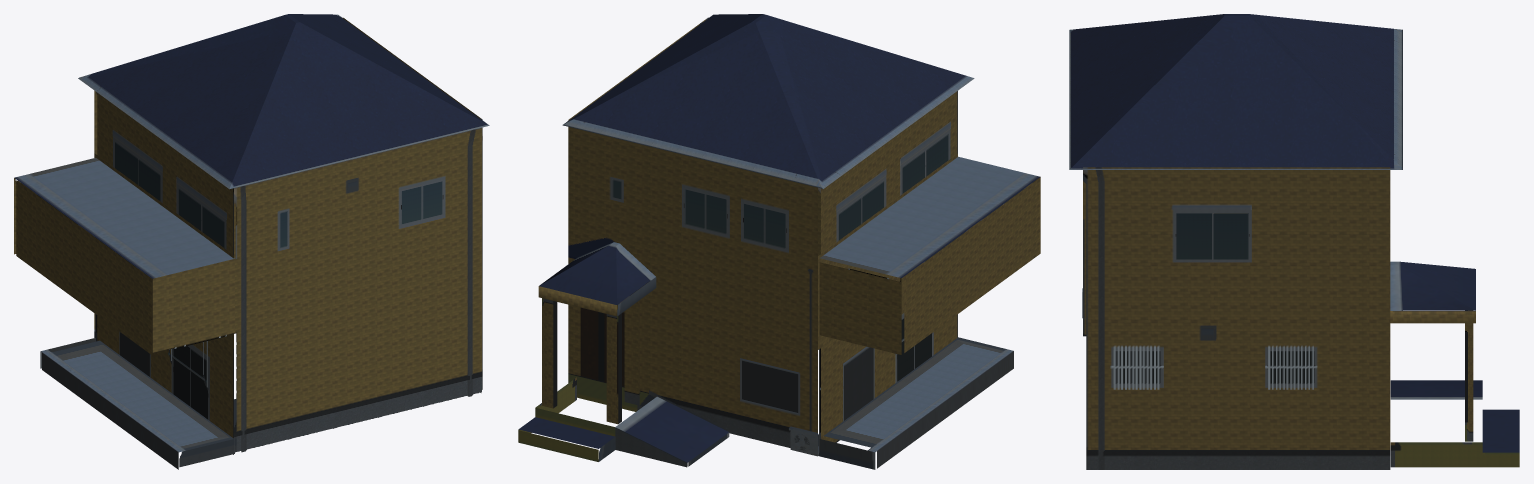
File: house15_low.fbx
3 renders of one model, left to right at view 1: azimuth 30°, elevation 25°; view 2: azimuth 150°, elevation 25°; view 3: azimuth 270°, elevation 25°, orthographic. The views are drawn at different scales.
Parts seen in each view (by area): view 1: pCube10; view 2: pCube10; view 3: pCube10.
Part boxes in pixels (x1,y1,x2,y2): pCube10: (14,14,489,469); pCube10: (518,14,1040,469); pCube10: (1069,14,1519,469).
Size of the model in its own units: 803 by 823 by 856.
Materials: 5 (5 with a texture image).
